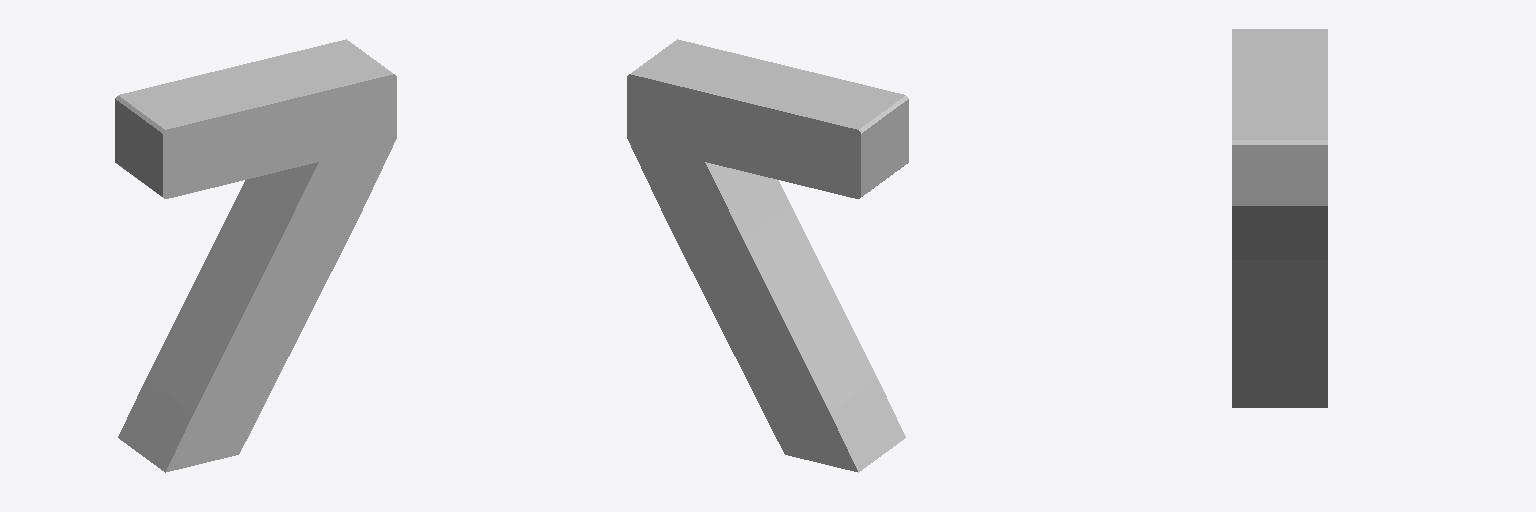
3 renders of one model, left to right at view 1: azimuth 30°, elevation 25°; view 2: azimuth 150°, elevation 25°; view 3: azimuth 270°, elevation 25°, orthographic.
Visible parts, largest first — view 1: text: ABCDEFGHIJKLMNOPQRSTUVWXYZ[number redacted]; view 2: text: ABCDEFGHIJKLMNOPQRSTUVWXYZ[number redacted]; view 3: text: ABCDEFGHIJKLMNOPQRSTUVWXYZ[number redacted].
Part boxes in pixels (left/top/right/bottom): text: ABCDEFGHIJKLMNOPQRSTUVWXYZ[number redacted]: left=115, top=39, right=396, bottom=472; text: ABCDEFGHIJKLMNOPQRSTUVWXYZ[number redacted]: left=627, top=39, right=908, bottom=472; text: ABCDEFGHIJKLMNOPQRSTUVWXYZ[number redacted]: left=1232, top=29, right=1327, bottom=407.
Size of the model in its own units: 71.06 by 99.29 by 25.